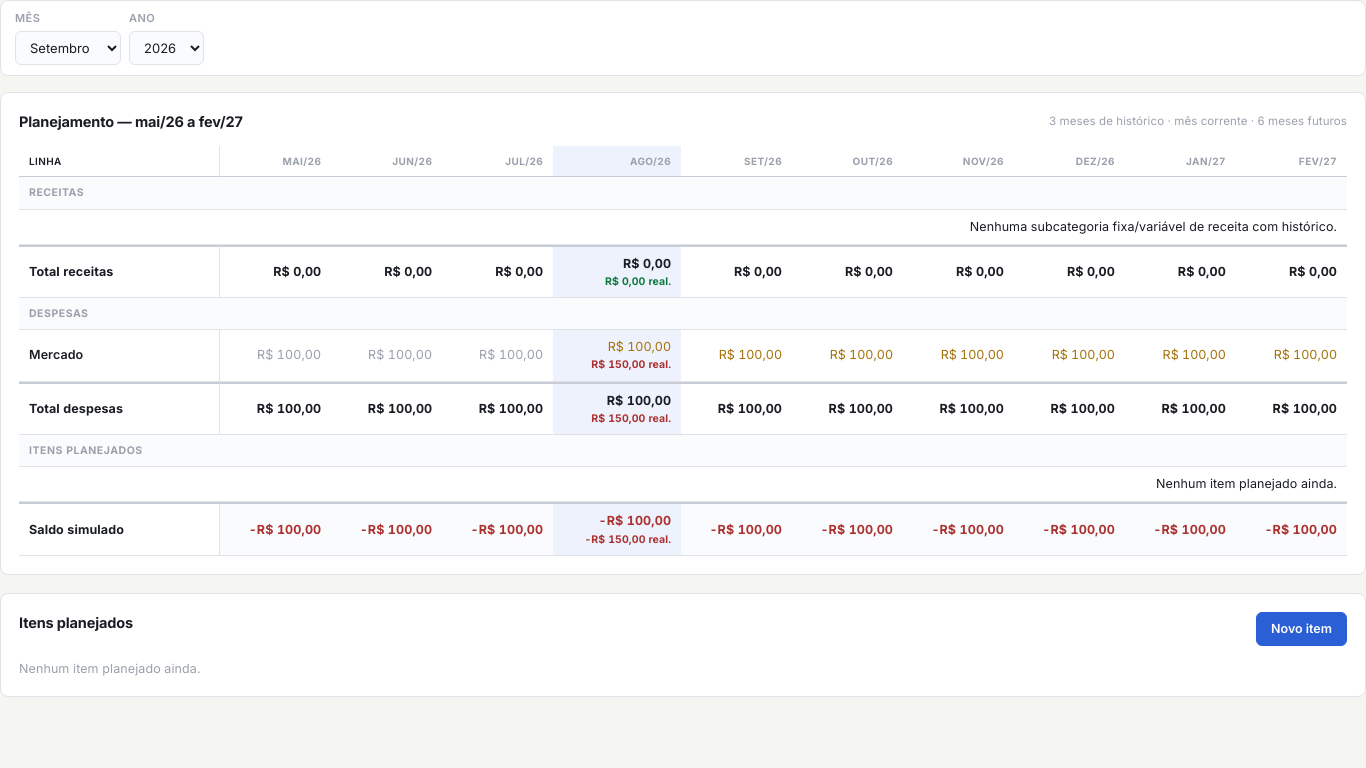
Scenario: PlanejamentoPage › propagates a current-month edit all the way to the last displayed column
The width and height of the screenshot is (1366, 768).
Check: the text "Mercado" is shown, box top-left (19, 330), bottom-right (220, 382)
Click the 1st button "R$ 100,00".
click(639, 347)  # box top-left (608, 338), bottom-right (671, 356)
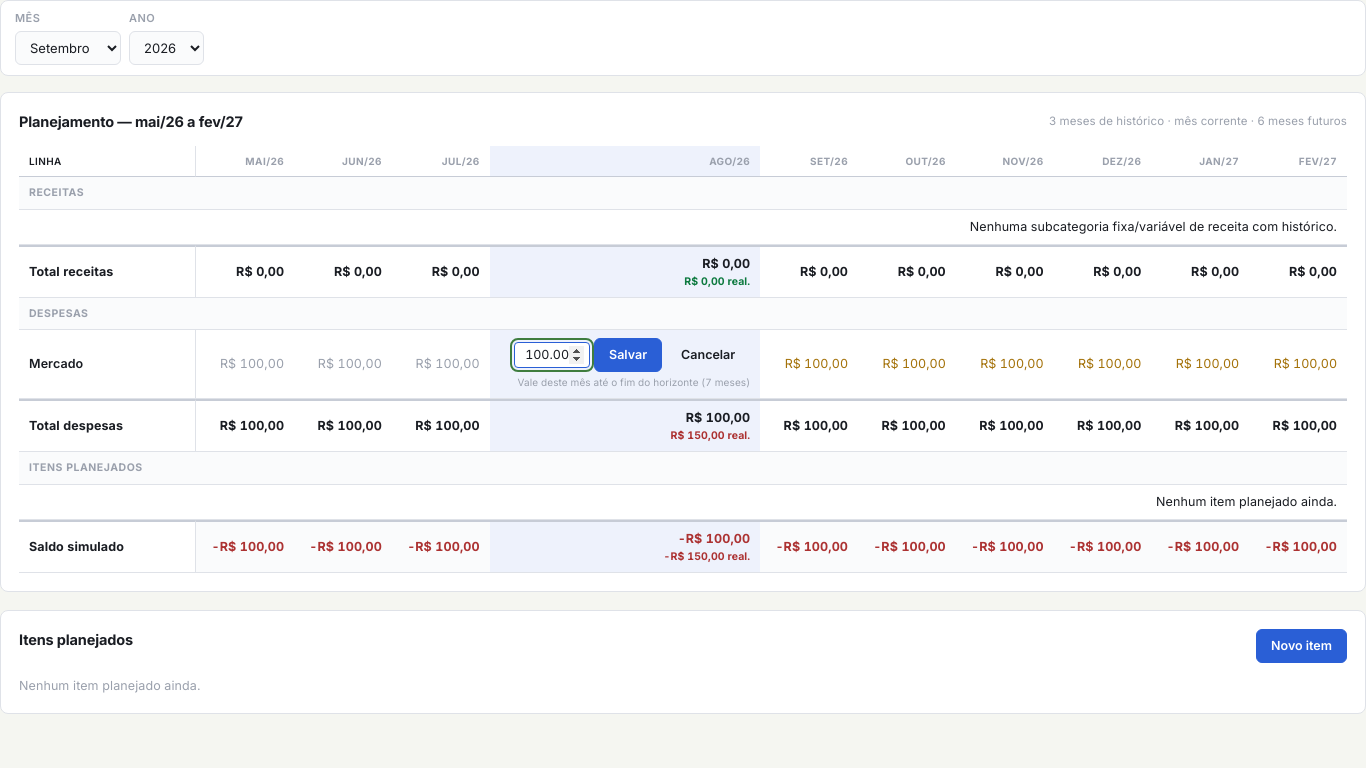
Check: the text "Vale deste mês até o fim do horizonte (7 meses)" is shown, box top-left (500, 376), bottom-right (750, 390)
